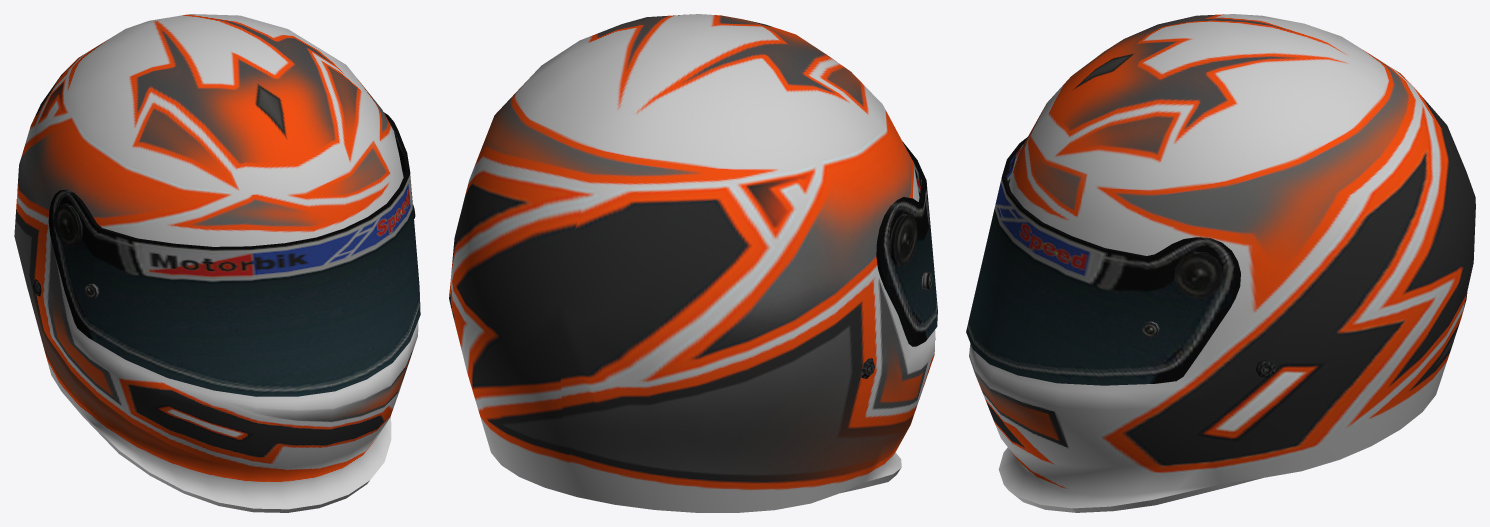
The model's file is Helmet 6.FBX.
The picture shows the model from 3 angles, left to right: view 1: azimuth 30°, elevation 25°; view 2: azimuth 150°, elevation 25°; view 3: azimuth 270°, elevation 25°; orthographic projection. The views are drawn at different scales.
Parts seen in each view (by area): view 1: Helmet, Helmet window; view 2: Helmet, Helmet window; view 3: Helmet, Helmet window.
Part boxes in pixels (x1,y1,x2,y2): Helmet: [14, 14, 418, 512]; Helmet window: [48, 112, 420, 396]; Helmet: [449, 14, 935, 512]; Helmet window: [876, 141, 937, 346]; Helmet: [969, 14, 1475, 512]; Helmet window: [966, 137, 1240, 385].
Size of the model in its own units: 16.47 by 18.9 by 19.88.
Materials: 1 (1 with a texture image).
